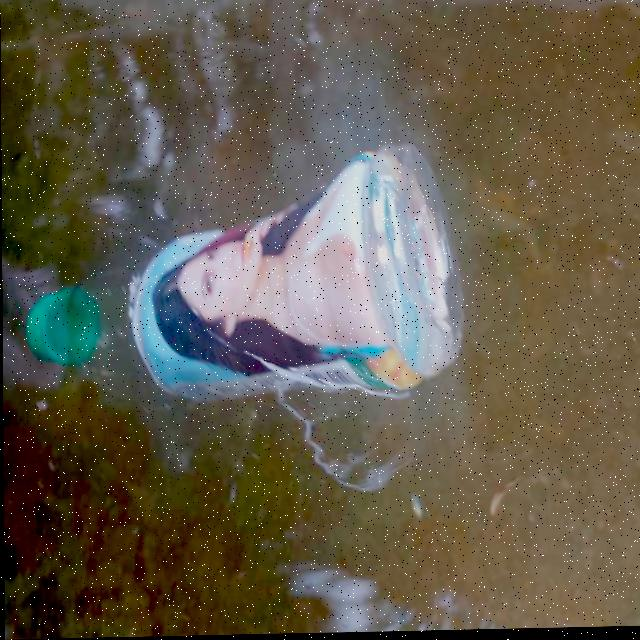waterbottle: (2, 131, 469, 430)
